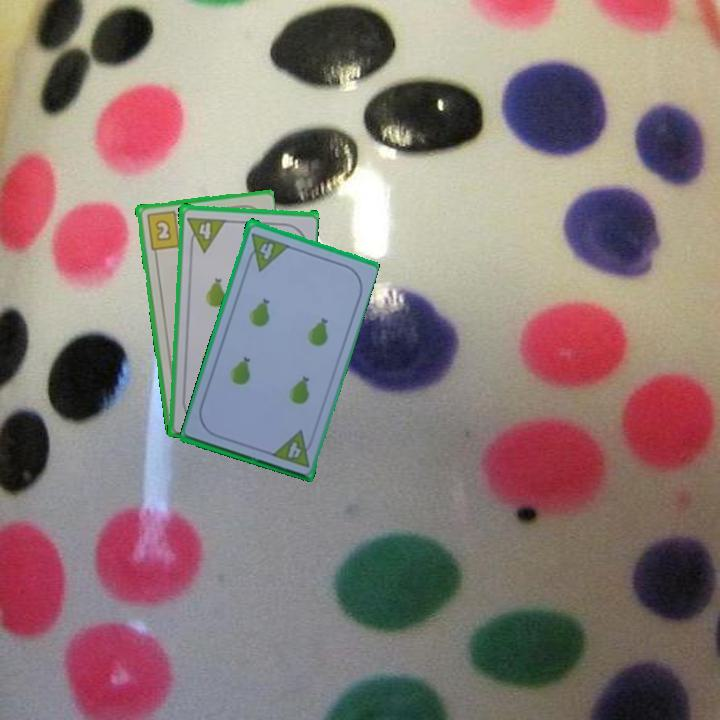2b: (143, 207, 185, 252)
4p: (268, 426, 318, 470), (242, 229, 291, 273), (194, 218, 227, 254)
